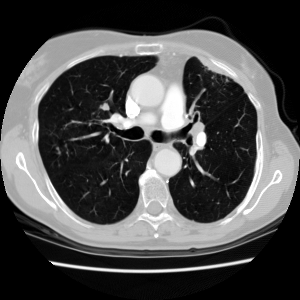nodule: (101, 103, 109, 111)
